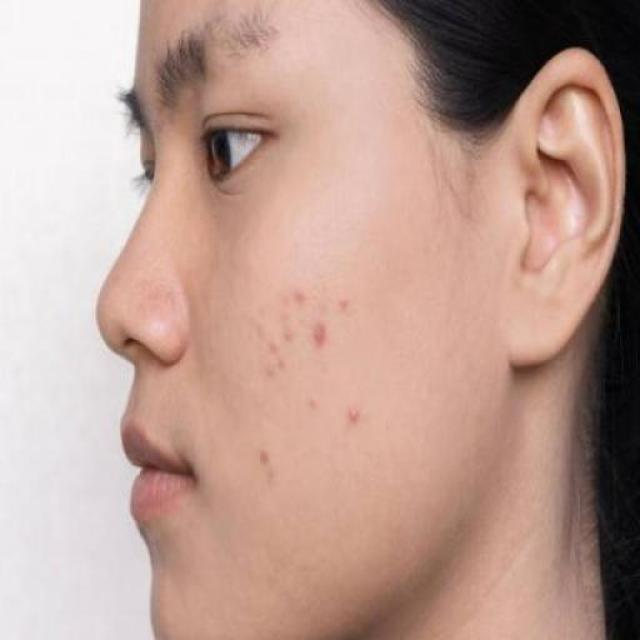Acne: (240, 286, 365, 476)
